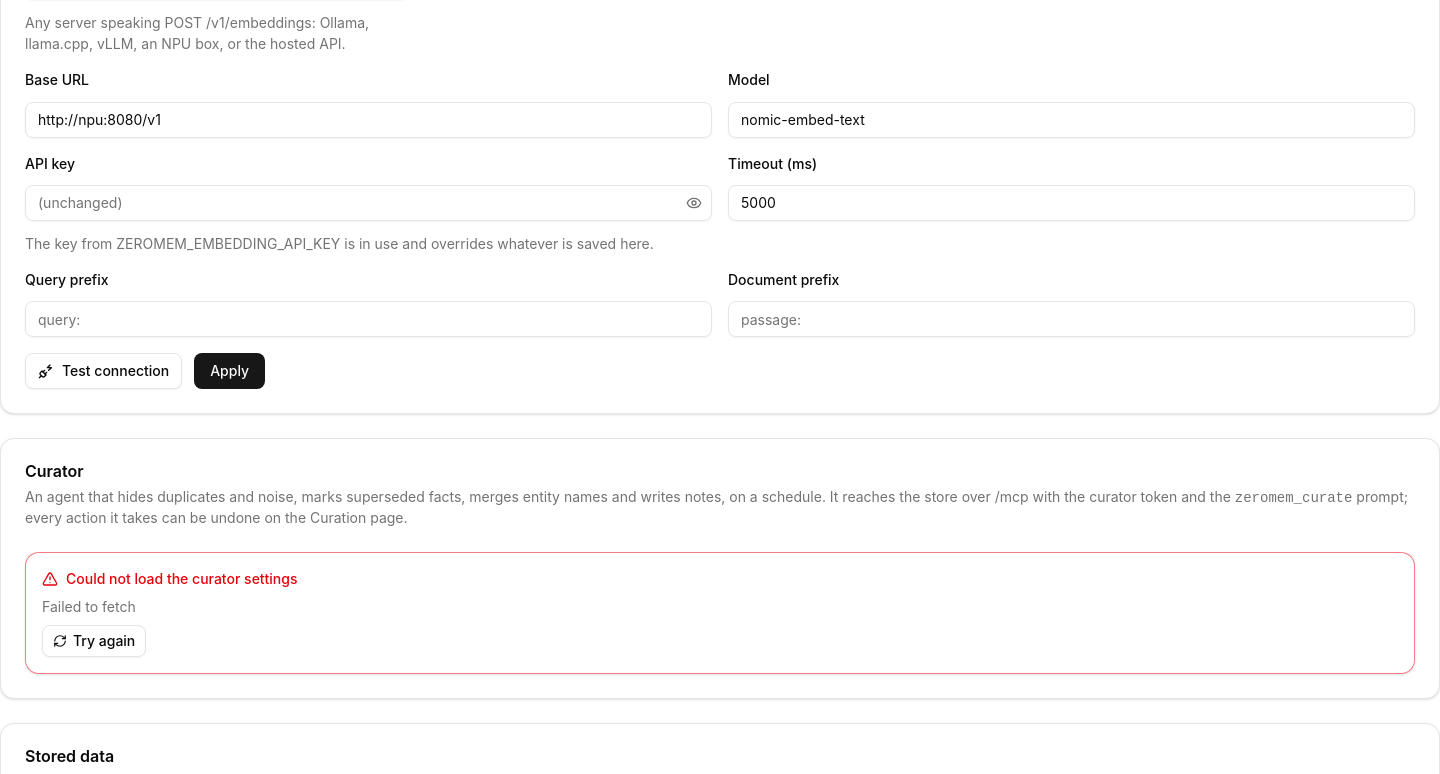
Test: SettingsPage › shows a failed test inline and the re-embedding progress
(page scrolled)
Expected: the text "ZEROMEM_EMBEDDING_API_KEY is in use" is shown, [25, 235, 654, 252]
Click the button "Test connection" at (104, 371), box [25, 353, 182, 389]
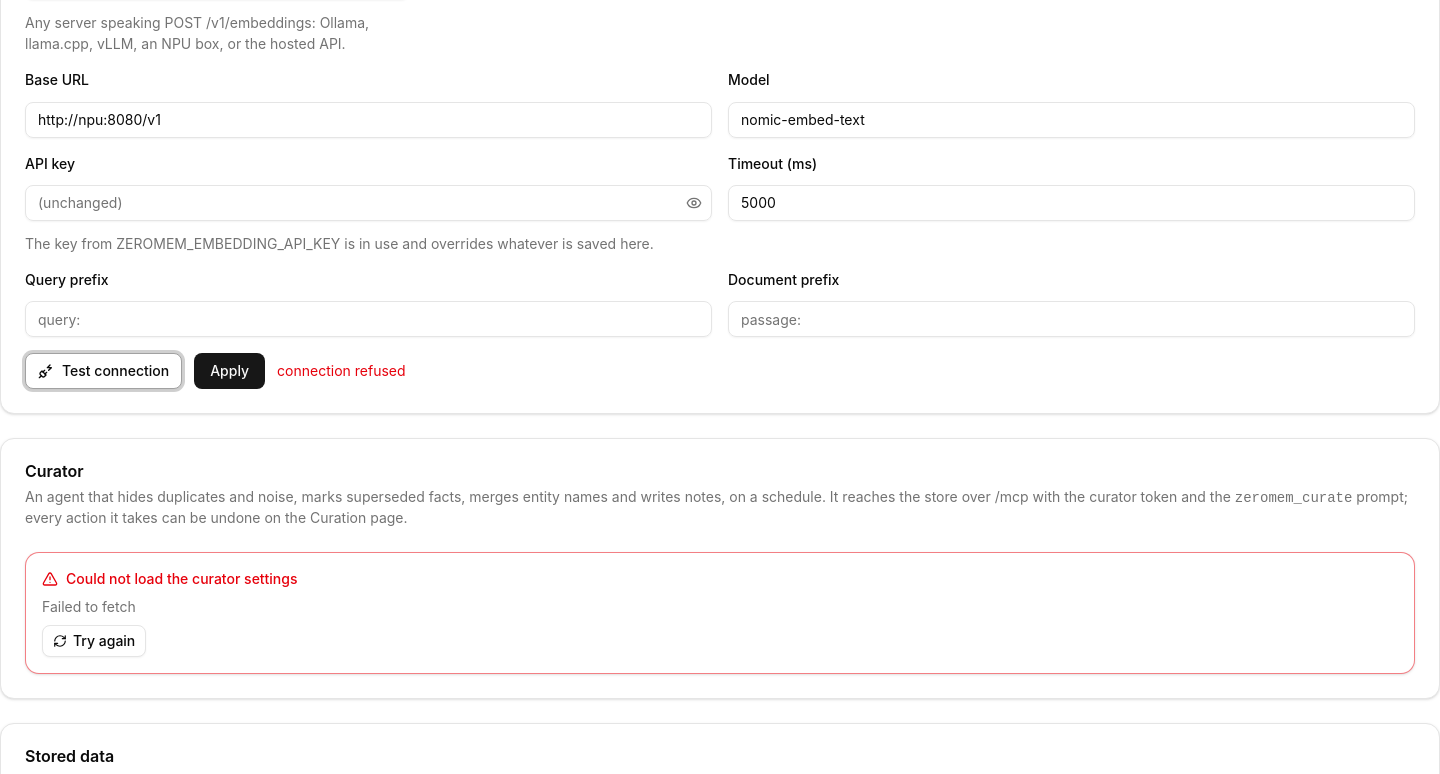
Expected: the message reads "connection refused", [277, 362, 406, 379]
